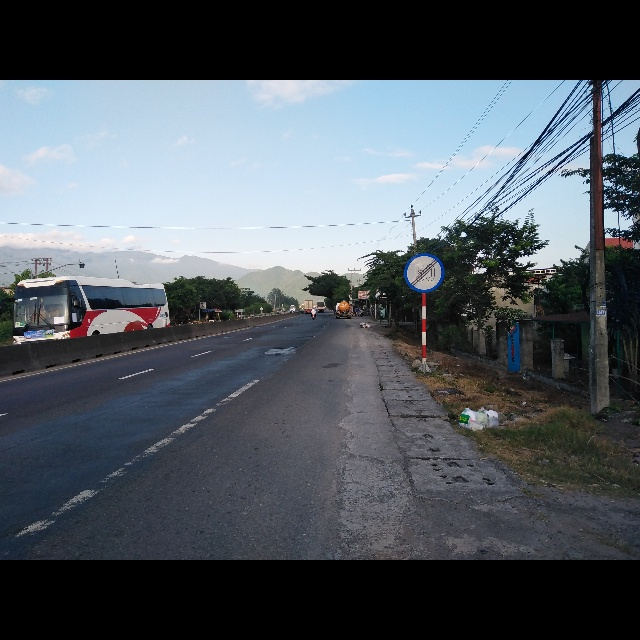Hết hạn chế tốc độ tối đa 50km/h: (401, 251, 444, 294)
